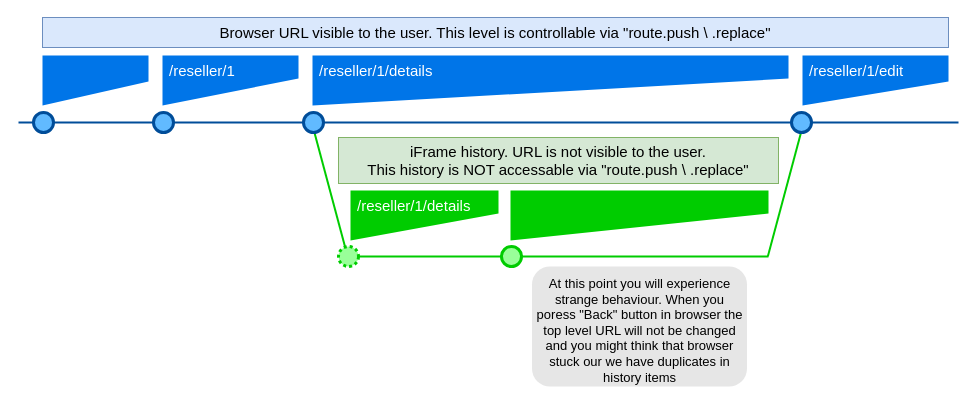
Image size: 976x404. Some labels were removed from this diagram. The shapes that lost their labels are listed below. From the top down, each one's centre as x and y in pixels, then its label:
the point at 95,80: /reseller
the point at 639,215: /reseller/1/details/phonebook/create
